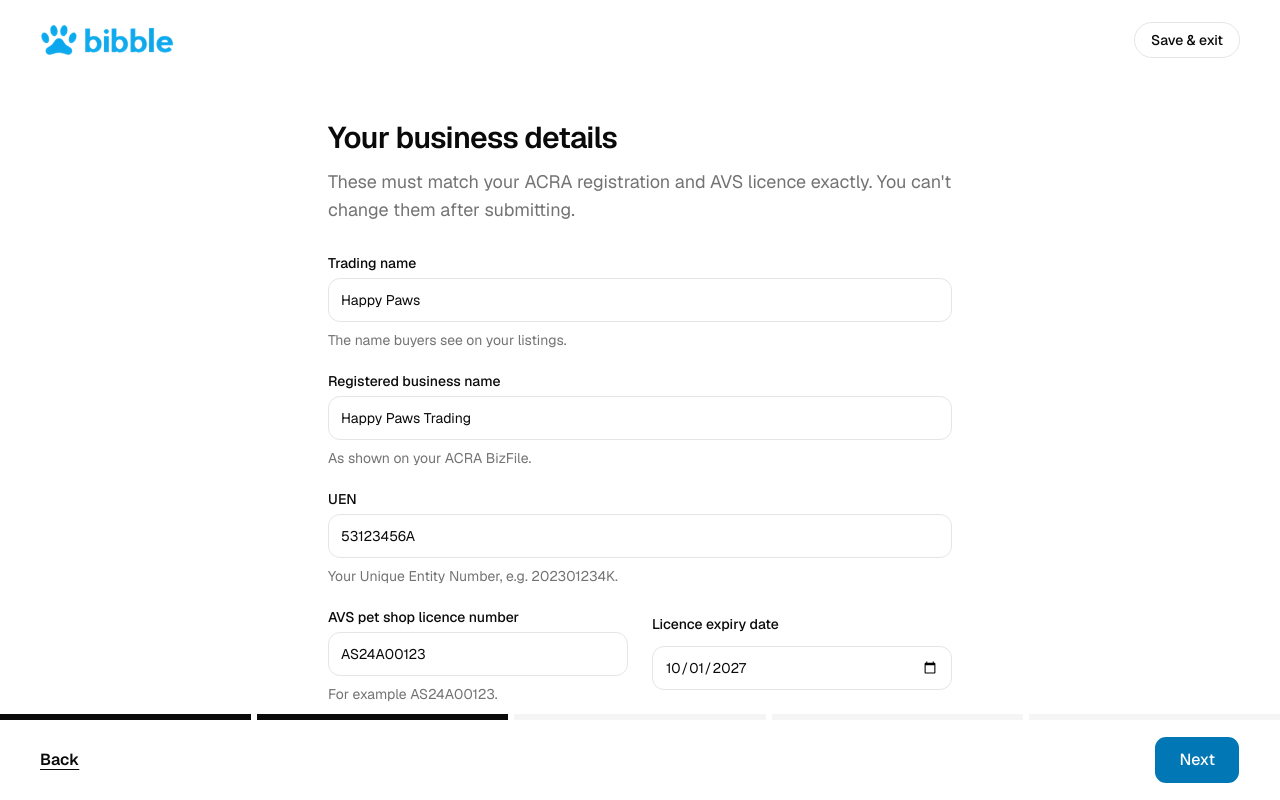
it: Business step › prefills saved details and shows returned errors
Expected: the field labelled "Trading name" holds "Happy Paws", [328,278,952,322]
What coordinates should you click on to do the following:
click the button "Next"
I would click on:
 (1197, 760)
Its box is [1154,736,1240,784].
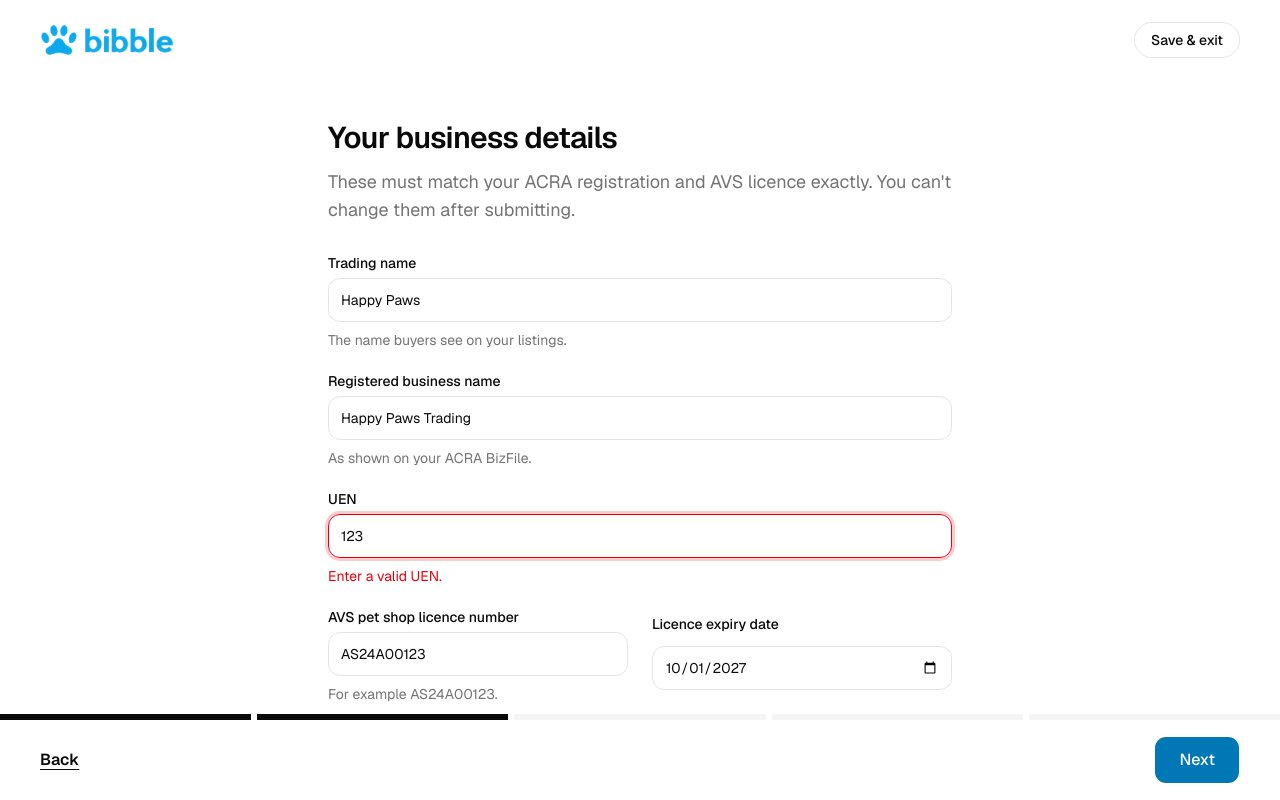
Expected: the field labelled "Trading name" holds "Happy Paws", [328,278,952,322]
Expected: the text "Enter a valid UEN." is shown, [328,567,442,585]
Expected: the field labelled "UEN" holds "123", [328,514,952,558]
